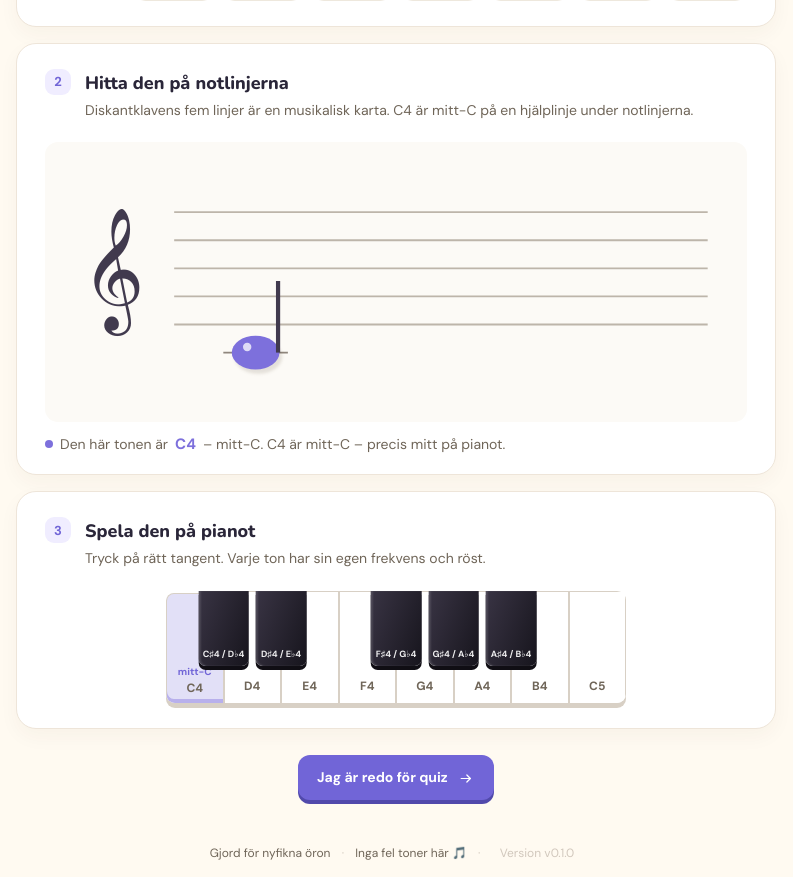
it: Note Nest lesson › keeps the question and highlights nothing when a black key is played in the quiz
(page scrolled)
Click the button "Jag är redo för quiz". click: click(396, 778)
box: [298,755,494,800]
(page scrolled)
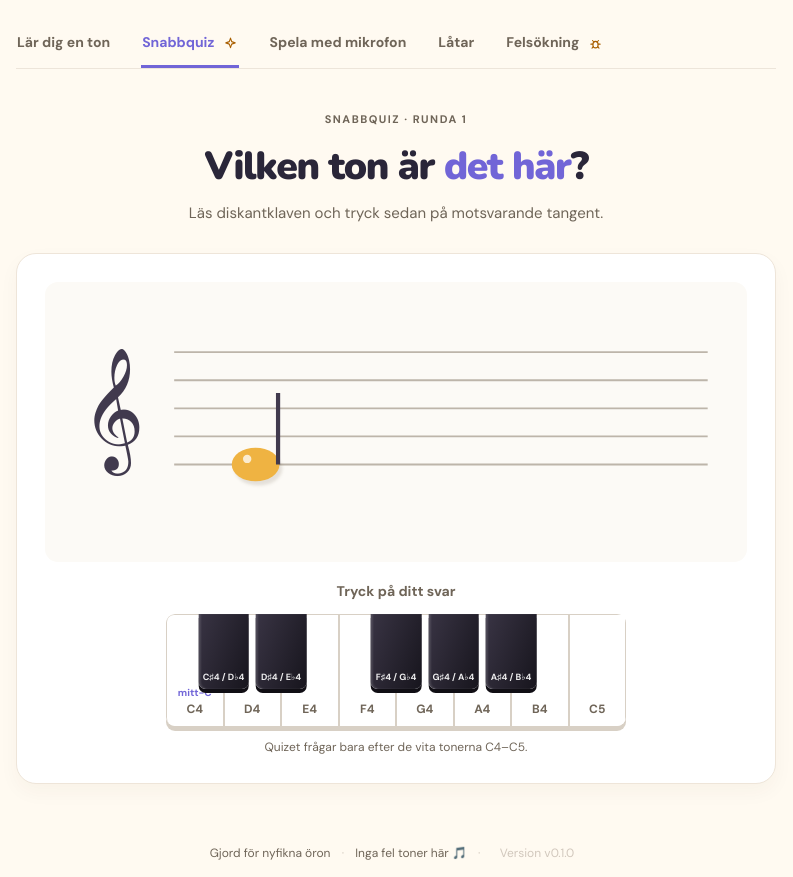
Click the button named "Spela F♯4 / G♭4". click: click(396, 652)
box: [371,614,421,689]
(page scrolled)
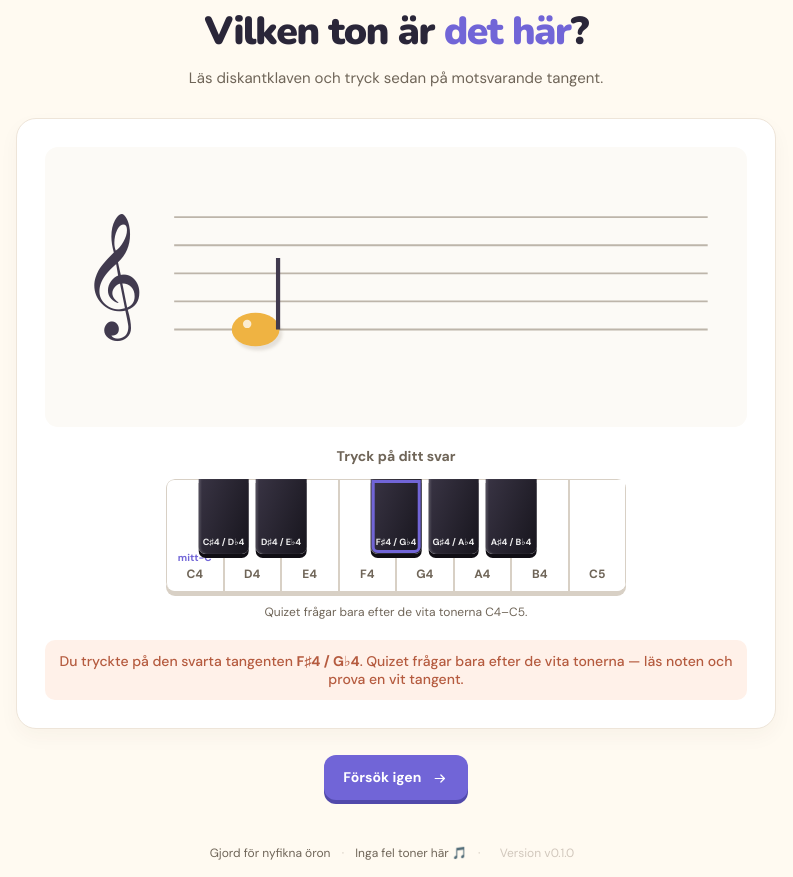
Expected: the picture named "Diskantklav med tonen E4" is shown, [45,146,747,427]
Now the message shows "Du tryckte på den svarta tangenten F♯4 / G♭4", box [45,640,747,700]
Click the button "Försök igen". click: click(396, 778)
box: [324,755,468,800]
(page scrolled)
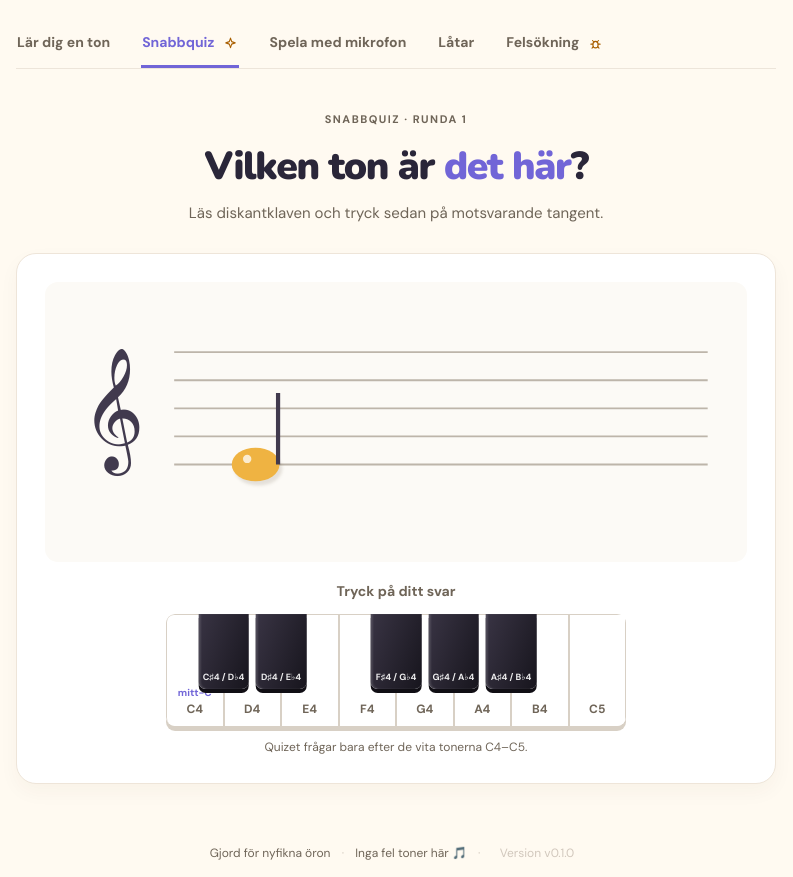
Expected: the picture named "Diskantklav med tonen E4" is shown, [45,282,747,562]
Now the message is gone
